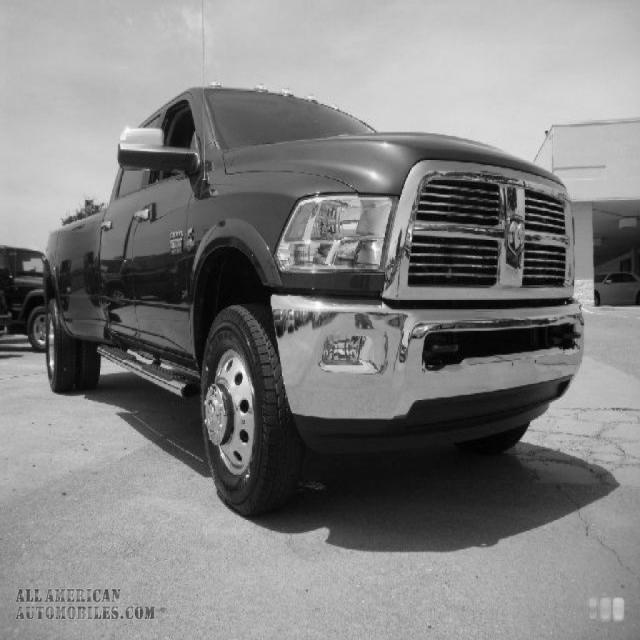car: (43, 81, 585, 518)
